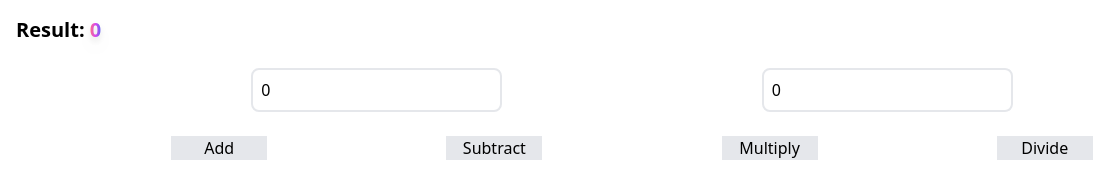
adds numbers
The width and height of the screenshot is (1110, 177).
Replace the text in the number field with test id "num1" with "5": (377, 90) [251,68,502,112]
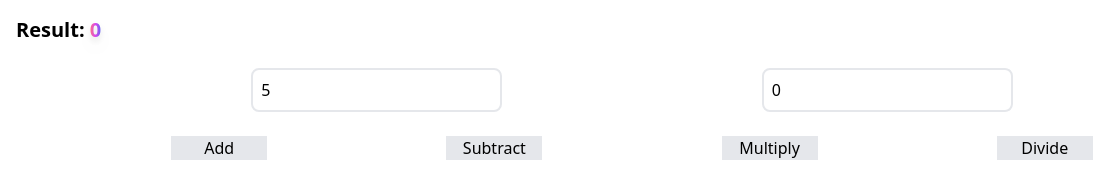
Replace the text in the number field with test id "num2" with "8": (887, 90) [762,68,1013,112]
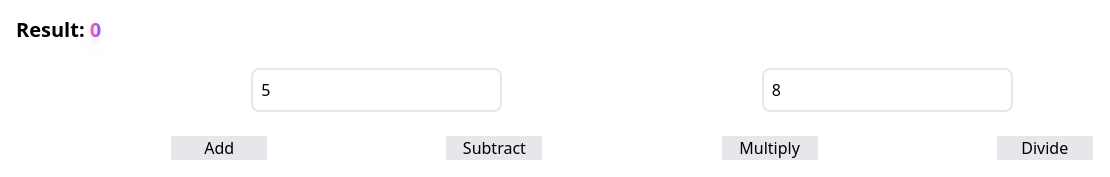
Click the button with test id "add": (219, 148) [171,136,267,160]
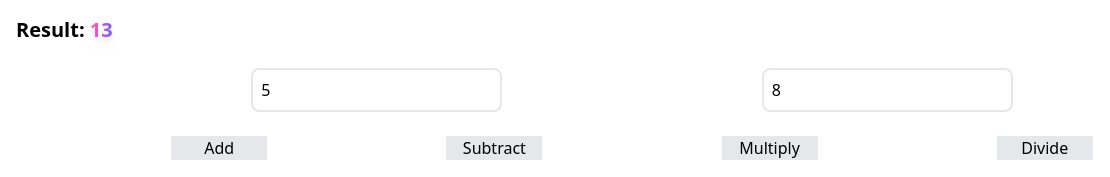
Expected: the element with test id "result" shows "13", [16,16,113,43]
